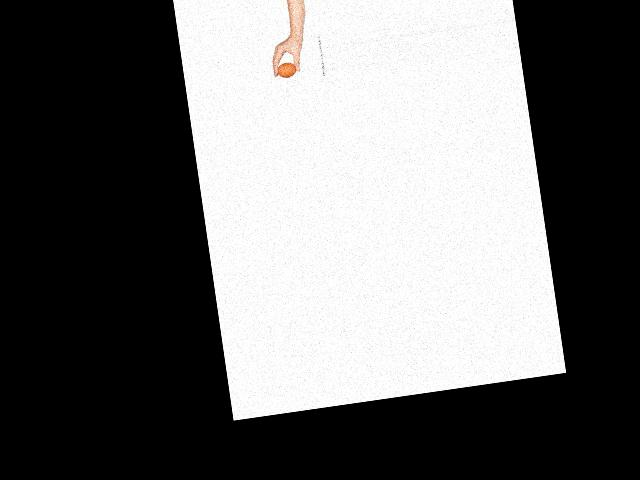egg: (275, 62, 297, 79)
